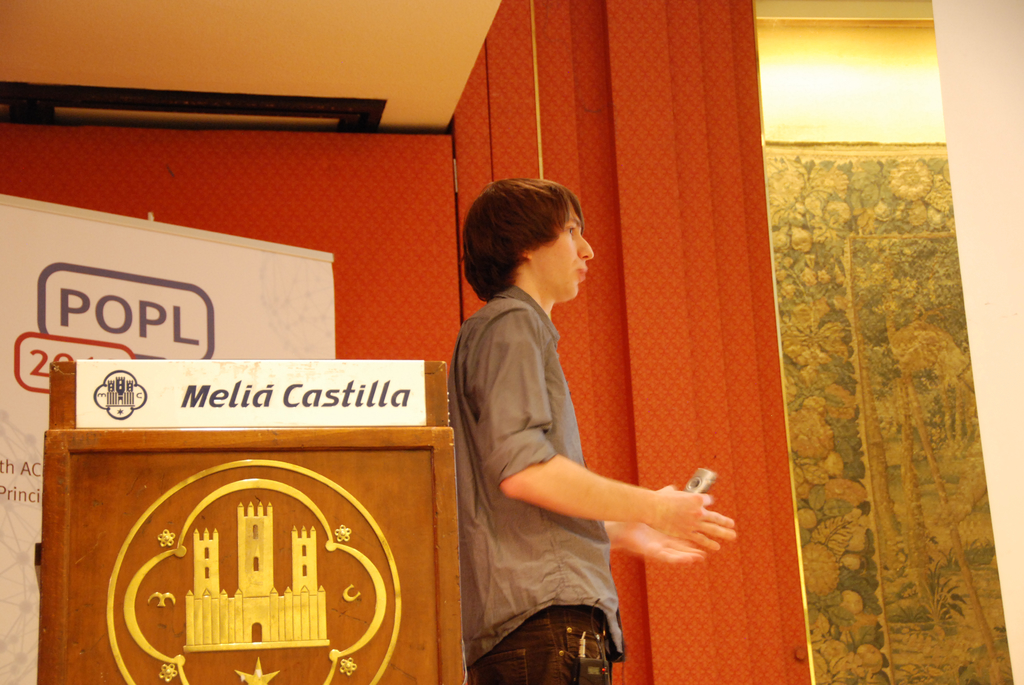Human_hand: (648, 487, 734, 551), (623, 521, 706, 560)
